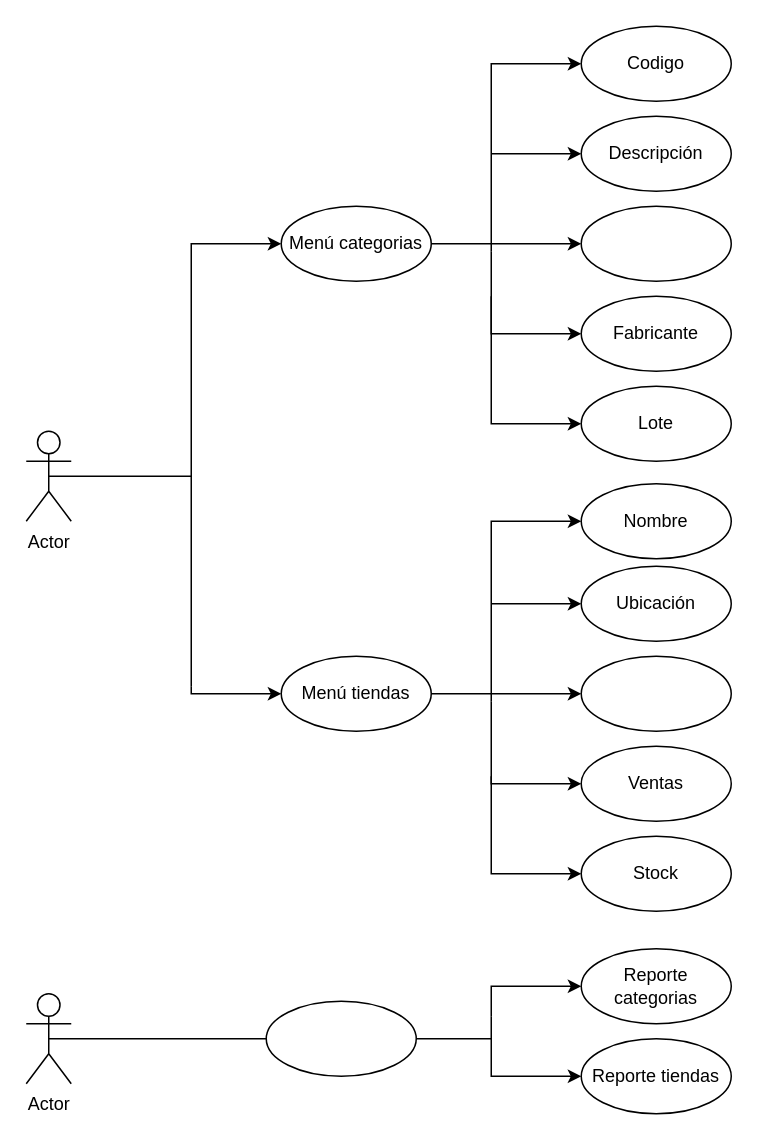
This 758x1142 diagram has some shape labels left out. Each missing label, with the centre of its shape:
Menú reportes: the point at 340,1038
Precio unitario: the point at 655,243
Tipo: the point at 655,693
